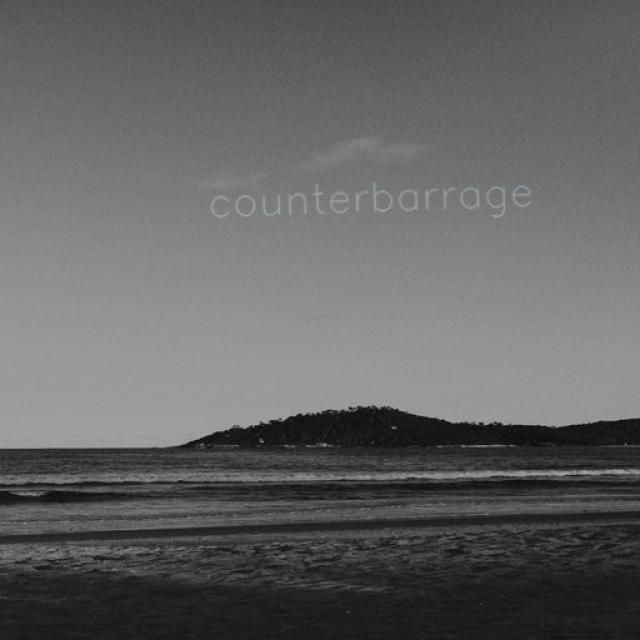watermark: (197, 174, 534, 224)
